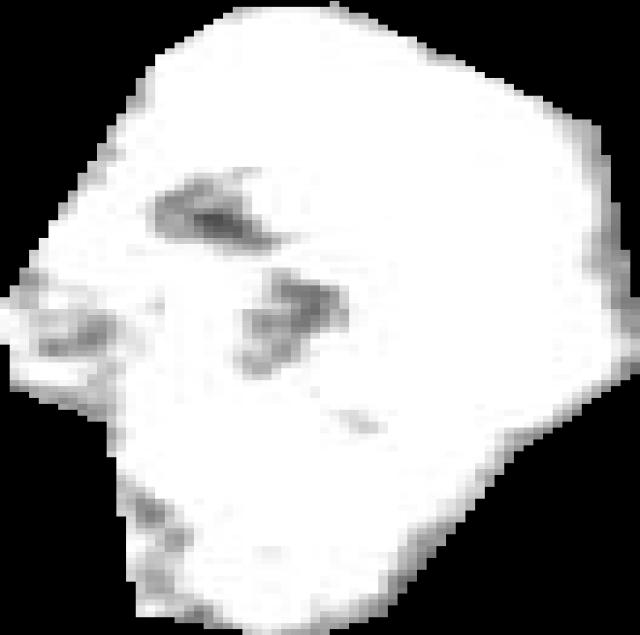tumor_good_chance: (0, 1, 640, 635)
